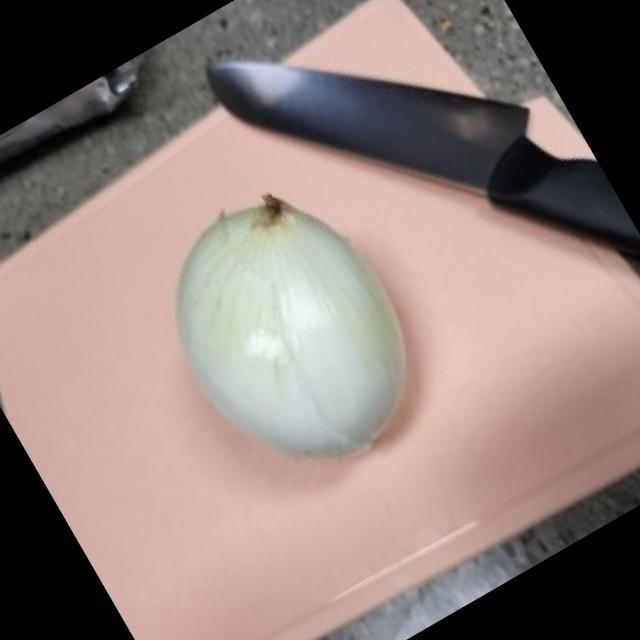Onion: (176, 204, 398, 454)
